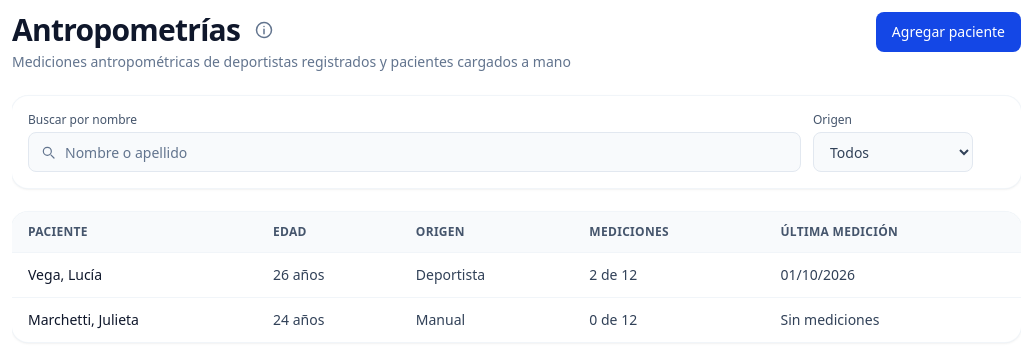
AntropometriasClient › busca por nombre sin importar tildes ni mayúsculas
Type "LUCIA" into the search field labelled "Buscar por nombre". click: (414, 152)
box: [28,132,801,172]
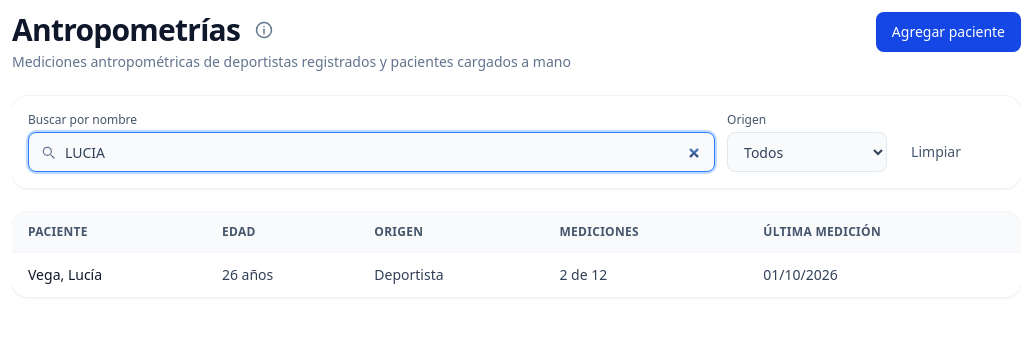
Check: the link "Vega, Lucía" is shown, box [28,265,102,284]
Check: the link "Marchetti, Julieta" is gone
